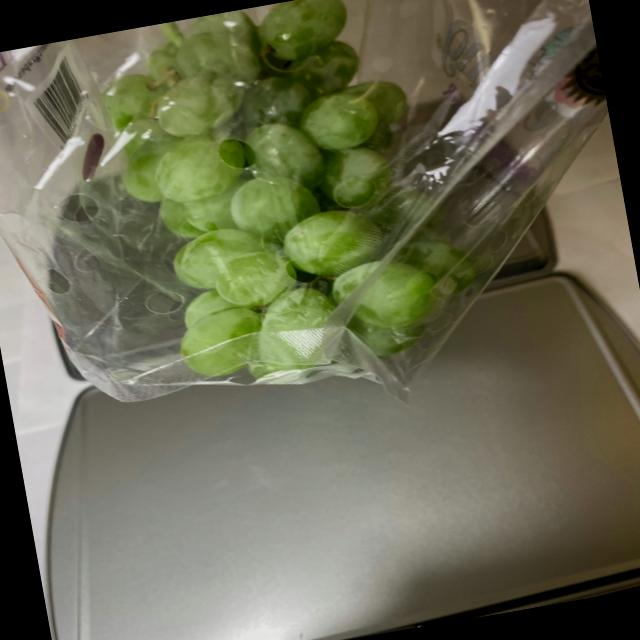grapes: (91, 0, 483, 376)
